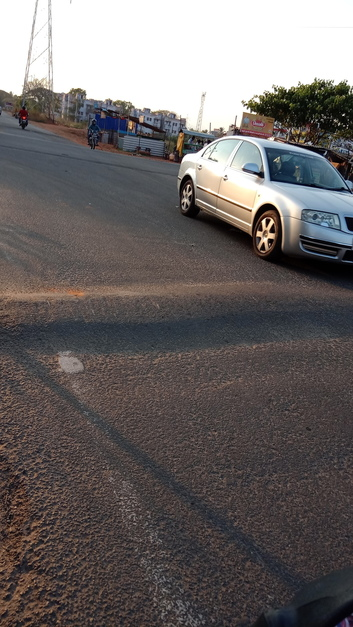bump: (1, 280, 353, 344)
